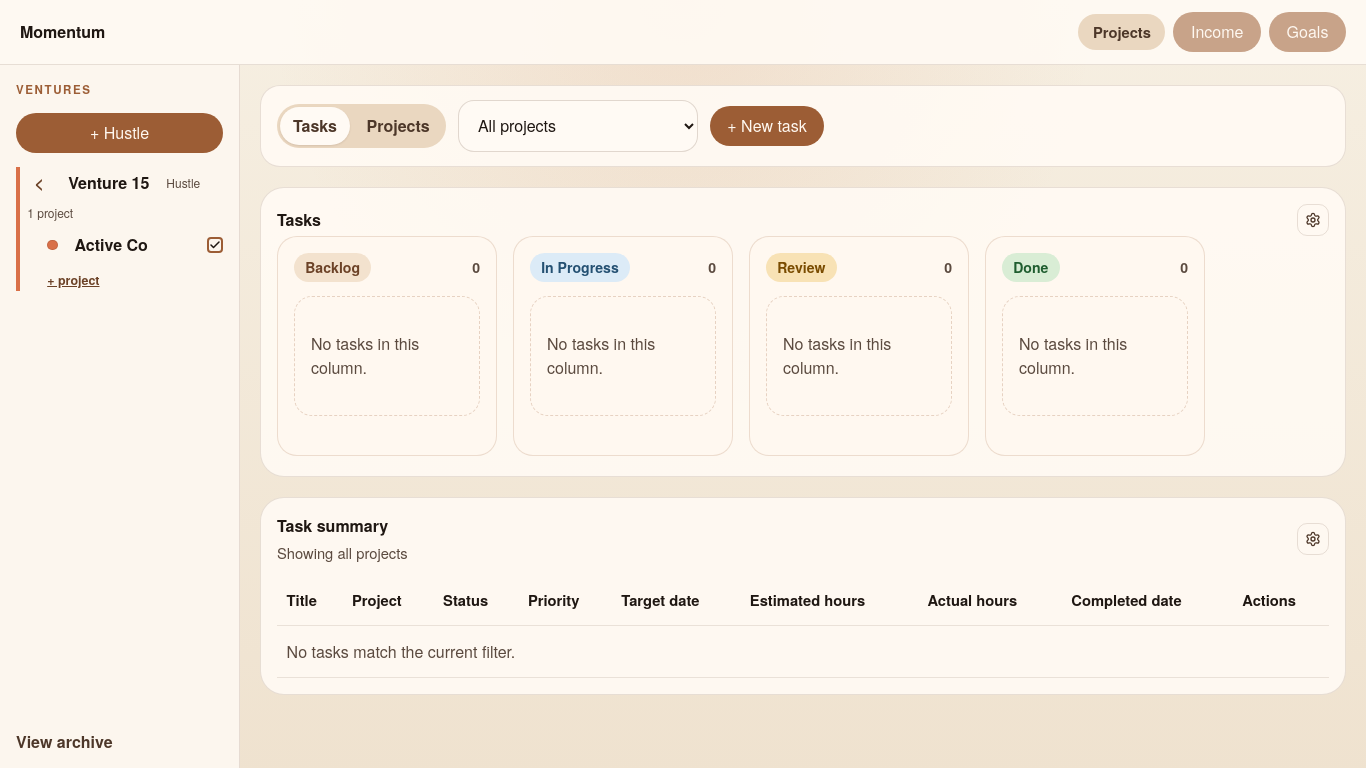
Test: Ticket 1.6-15 — Archive: archived project is read-only summary, not Edit project › opens a venture-style read-only summary for an archived project row (no ProjectDialog)
The image size is (1366, 768).
Step 1. Click the button "View archive" → (120, 742), box [16,725,223,760]
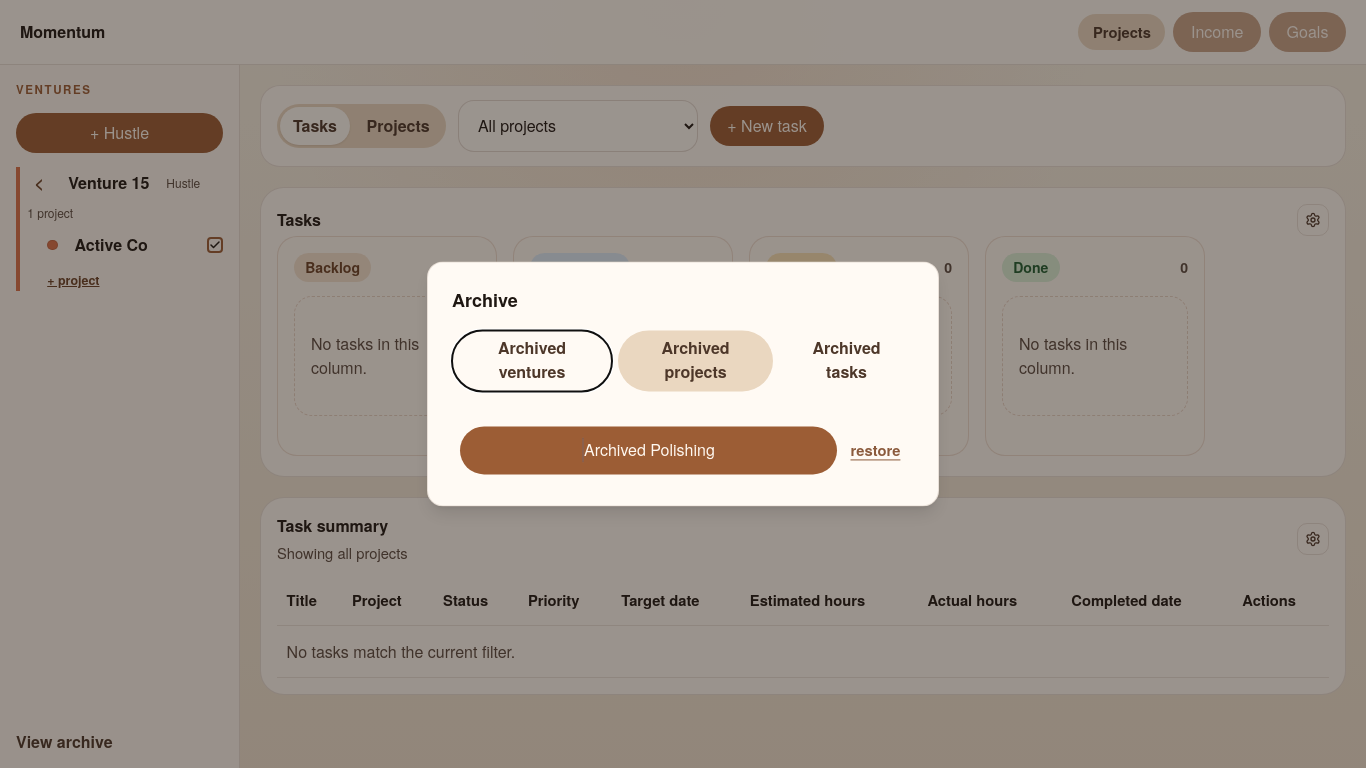
Step 2. Click the button "Archived Polishing" → (648, 450), box [460,426,837,474]
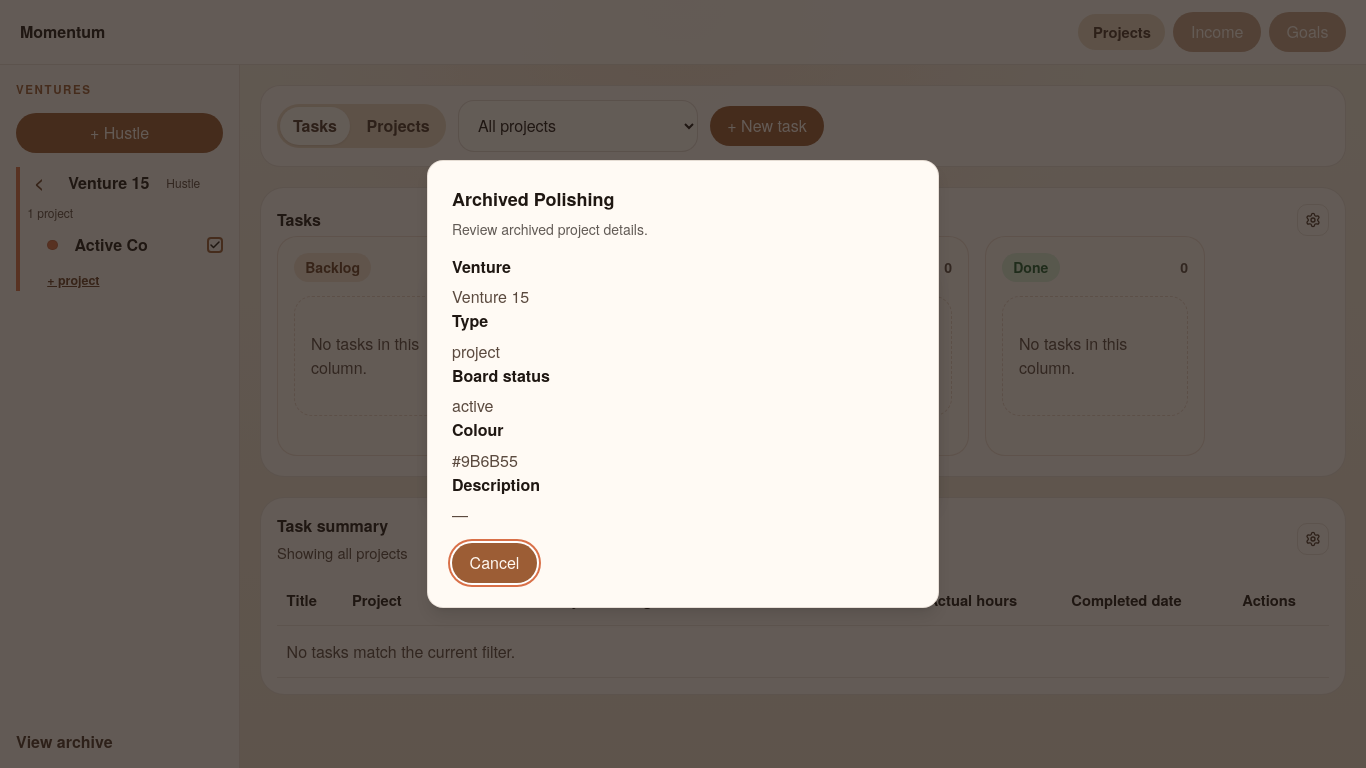
Expected: the text "Review archived project details." is shown, [452,219,648,239]
